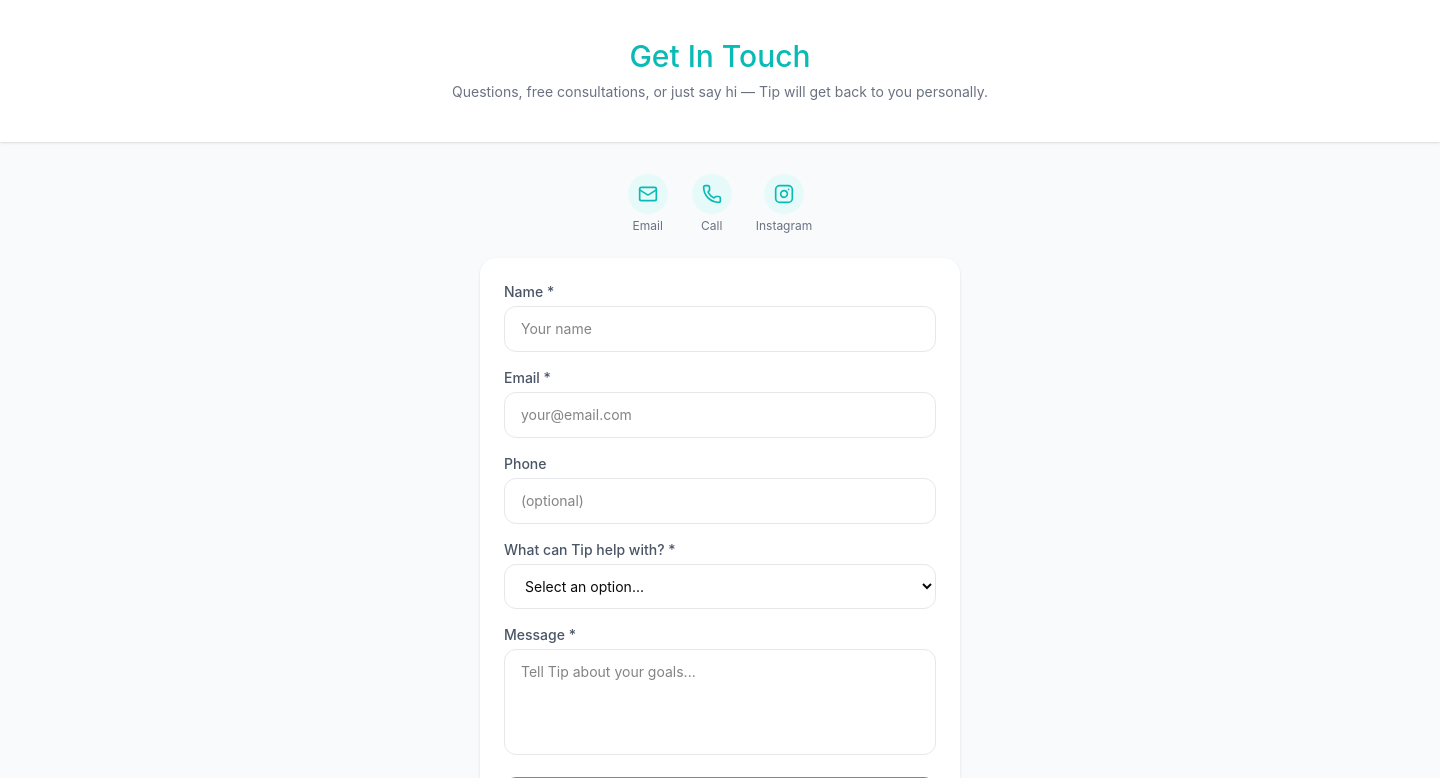
Scenario: Contact form › inserts the submission into contact_submissions with the right columns
Type "Jordan Lee" into the field with placeholder "Your name".
click(720, 329); type("Jordan Lee")  # box [504,306,936,352]
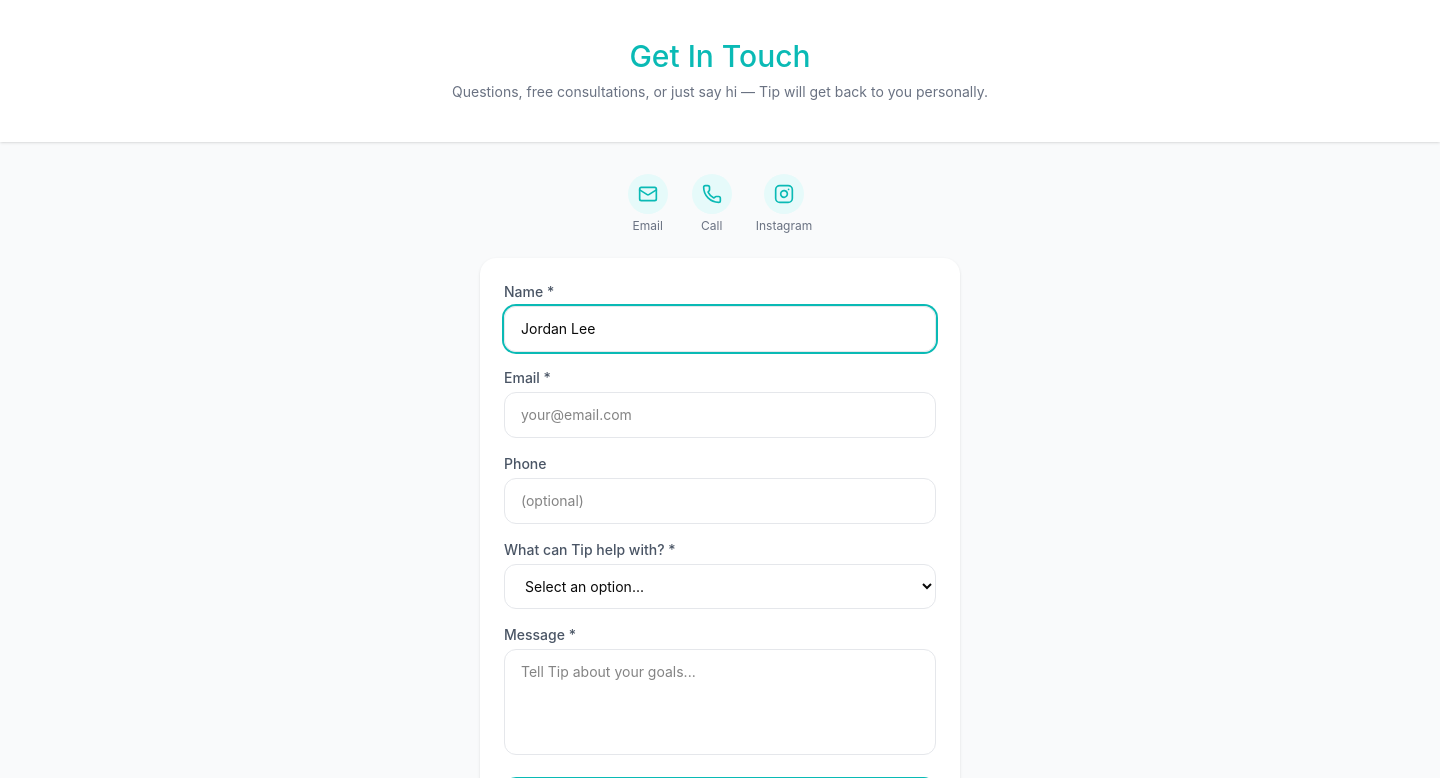
Type "jordan@example.com" into the field with placeholder "your@email.com".
click(720, 415); type("jordan@example.com")  # box [504,392,936,438]
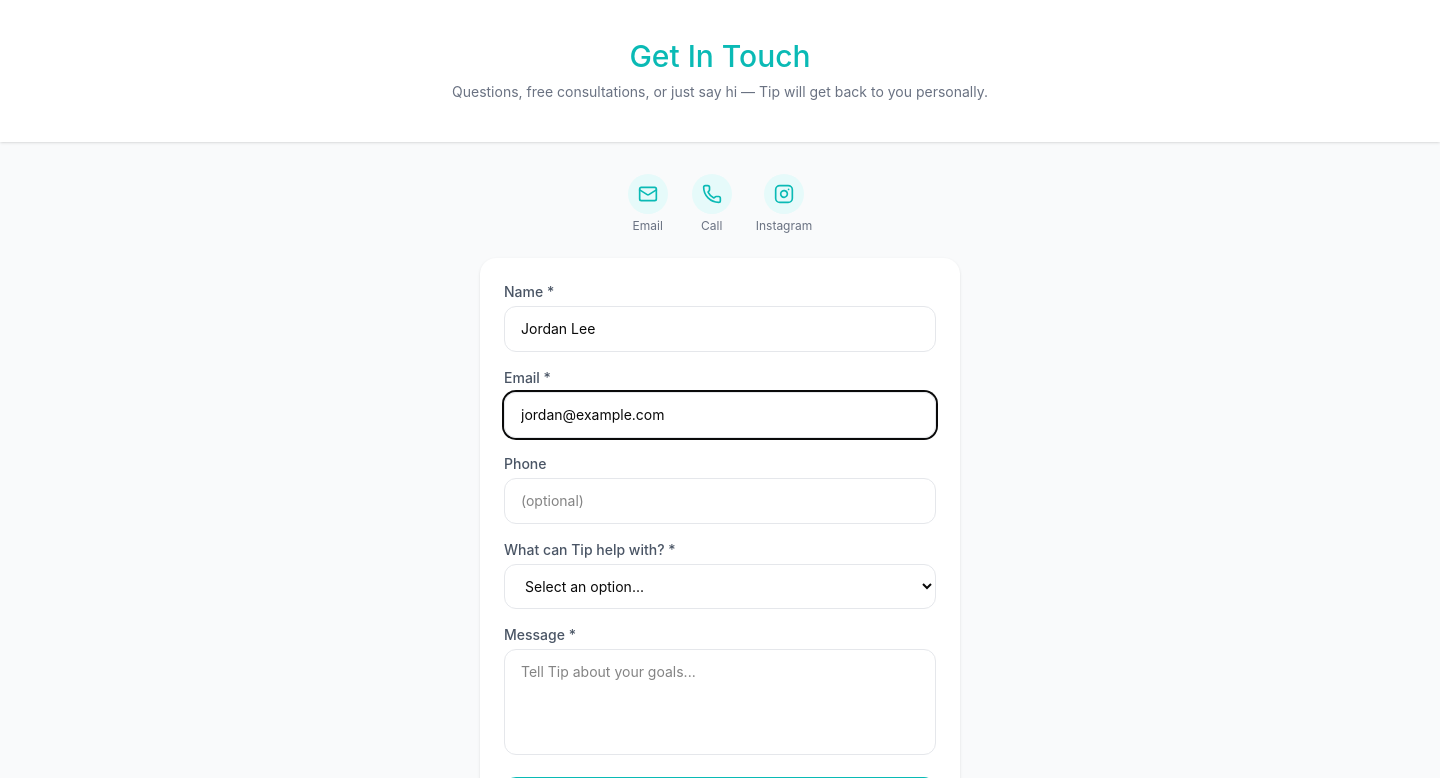
Select "Free Consultation" in the dropdown at (720, 586), box [504,564,936,609]
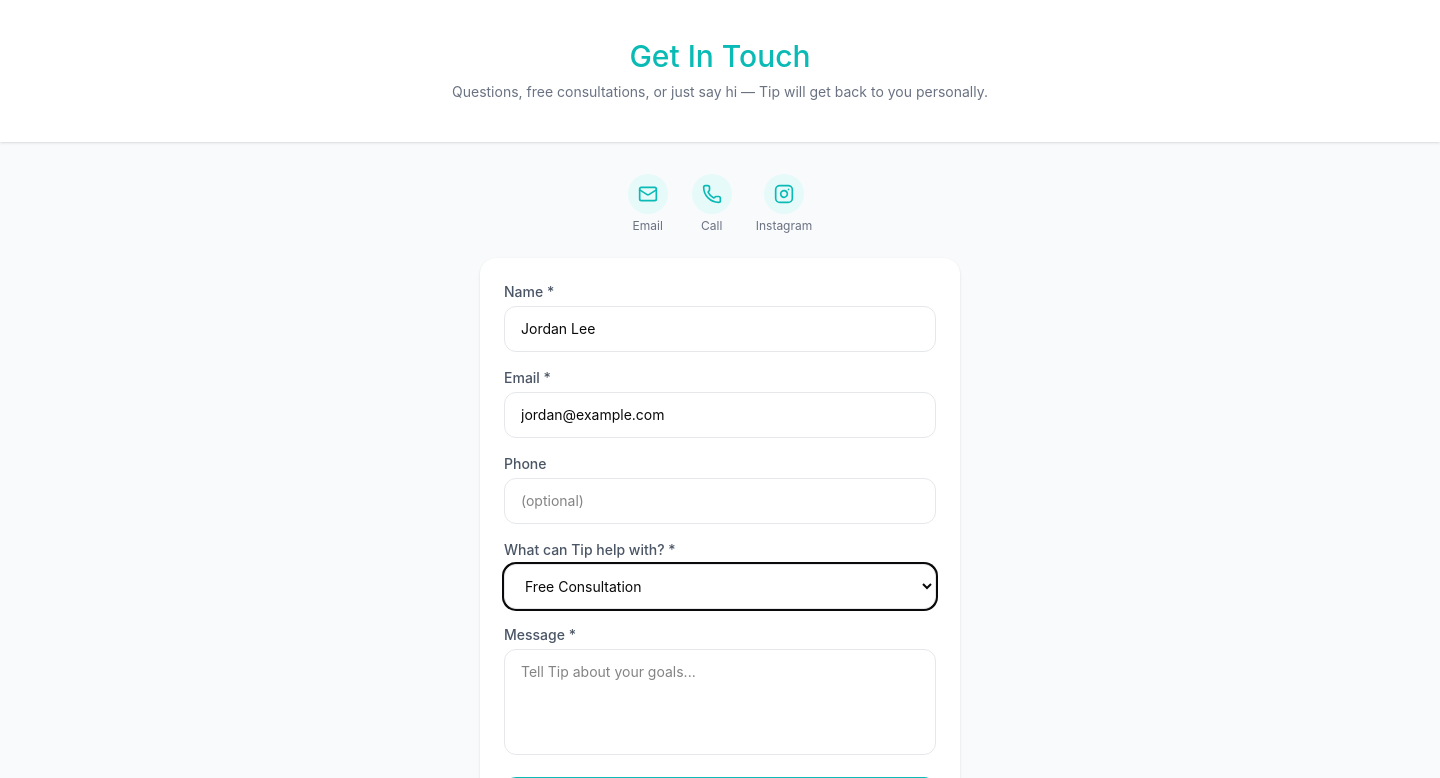
Type "I want to start strength training." into the text box with placeholder "Tell Tip about your goals...".
click(720, 702); type("I want to start strength training.")  # box [504,649,936,755]
(page scrolled)
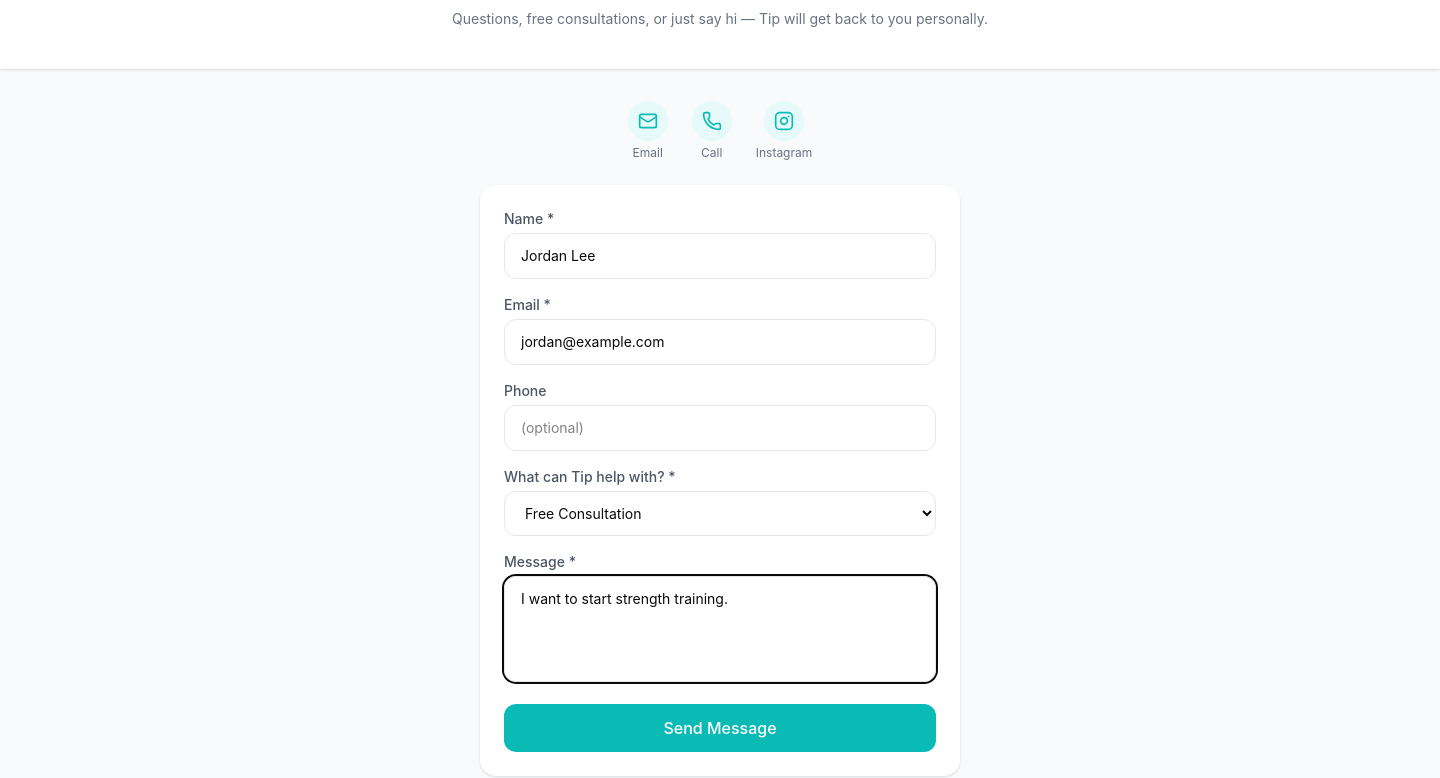
Click the button "Send Message".
click(720, 728)  # box [504,704,936,752]
(page scrolled)
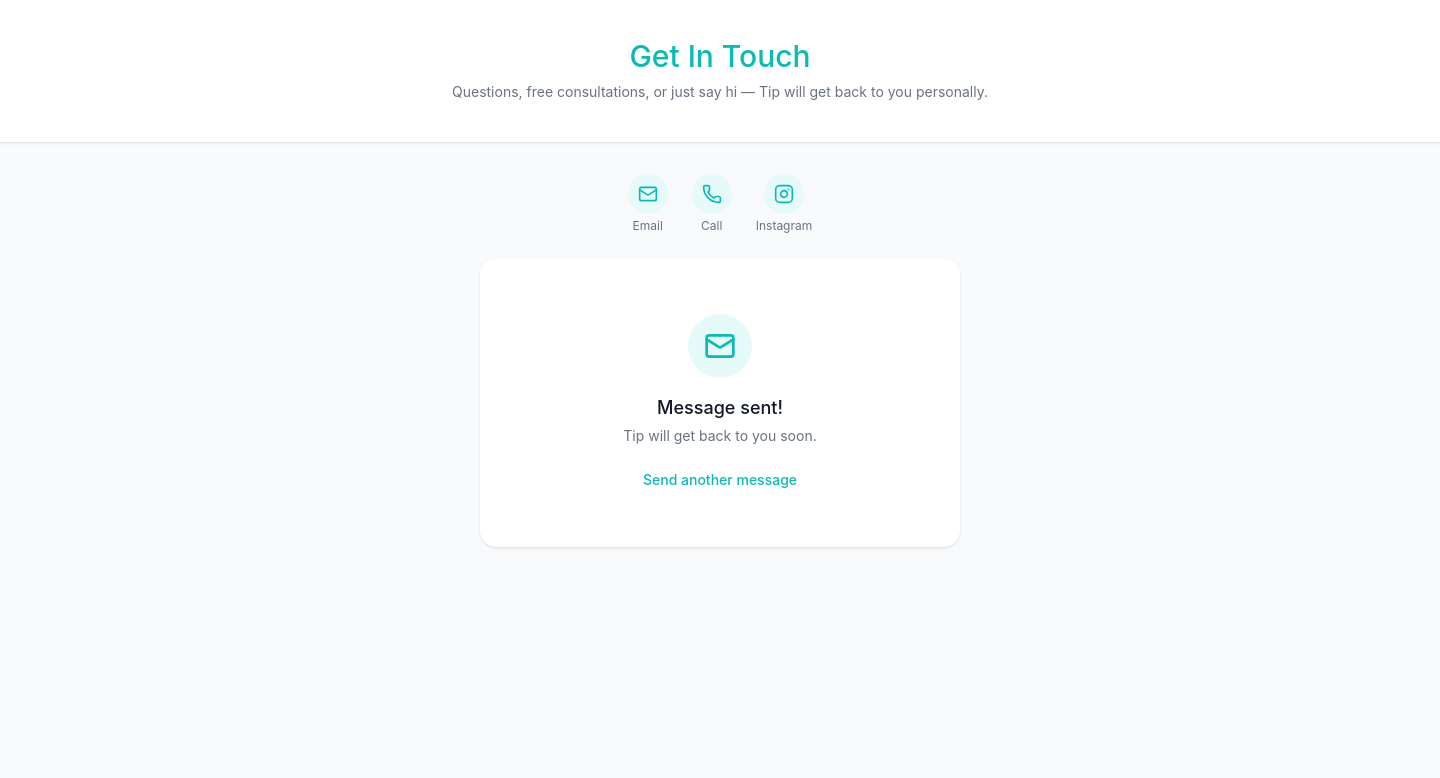
Expected: the heading "Message sent!" is shown, [657,397,783,418]
